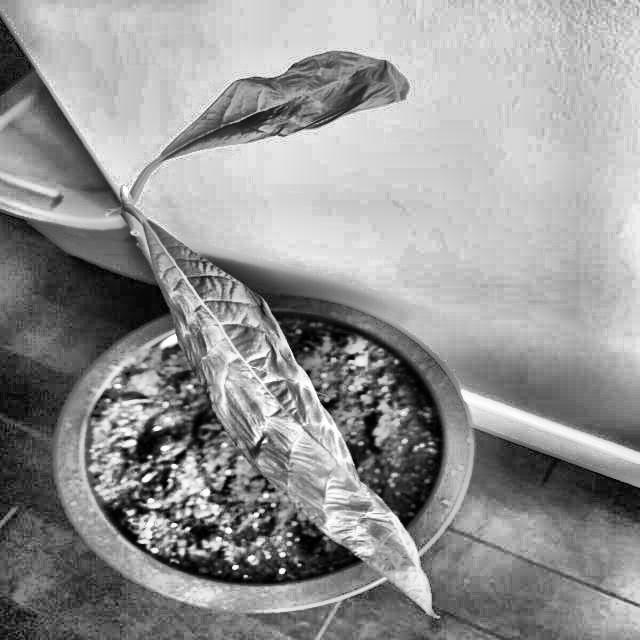plants: (120, 194, 442, 618), (136, 46, 424, 190)
